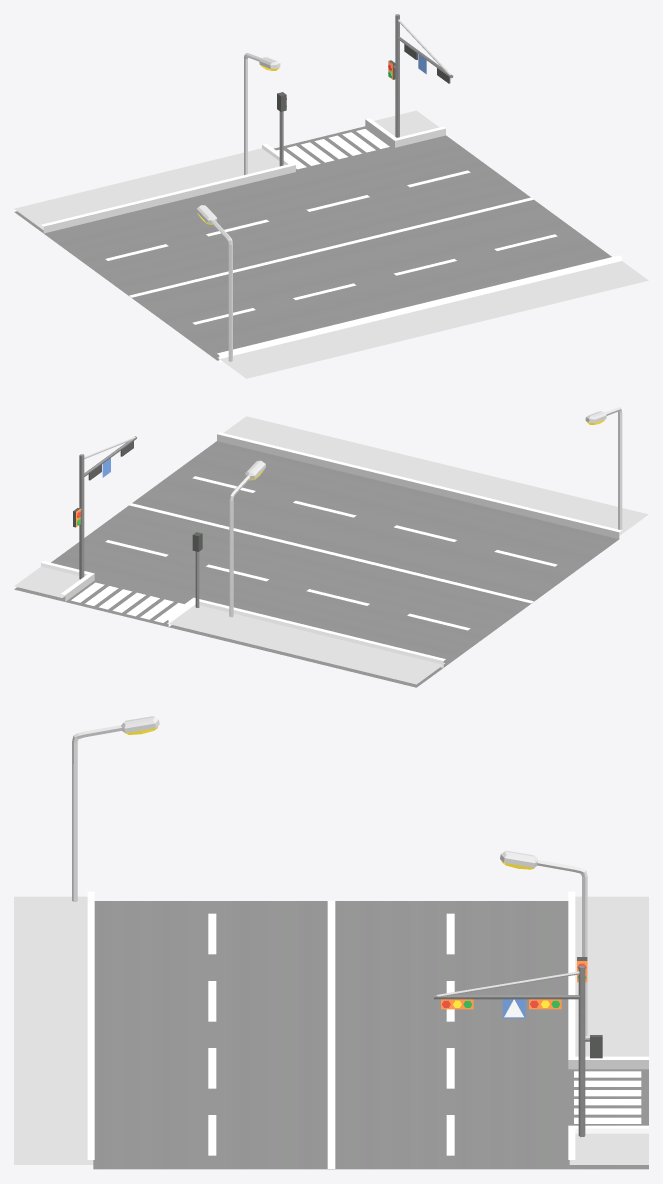
The model's file is road_tile_2x2_3_L.glb.
3 views of the same model, one above another, from view 1: azimuth 30°, elevation 25°; view 2: azimuth 150°, elevation 25°; view 3: azimuth 270°, elevation 25° (orthographic). The views are drawn at different scales.
Parts seen in each view (by area): view 1: road_tile_2x2_3; view 2: road_tile_2x2_3; view 3: road_tile_2x2_3.
Boxes of the visible parts, x1,y1,x2,y2 form: road_tile_2x2_3: (14, 14, 648, 378); road_tile_2x2_3: (14, 407, 648, 687); road_tile_2x2_3: (14, 716, 648, 1169).
Size of the model in its own units: 16 by 5.25 by 16.
1 material, 1 textured.
